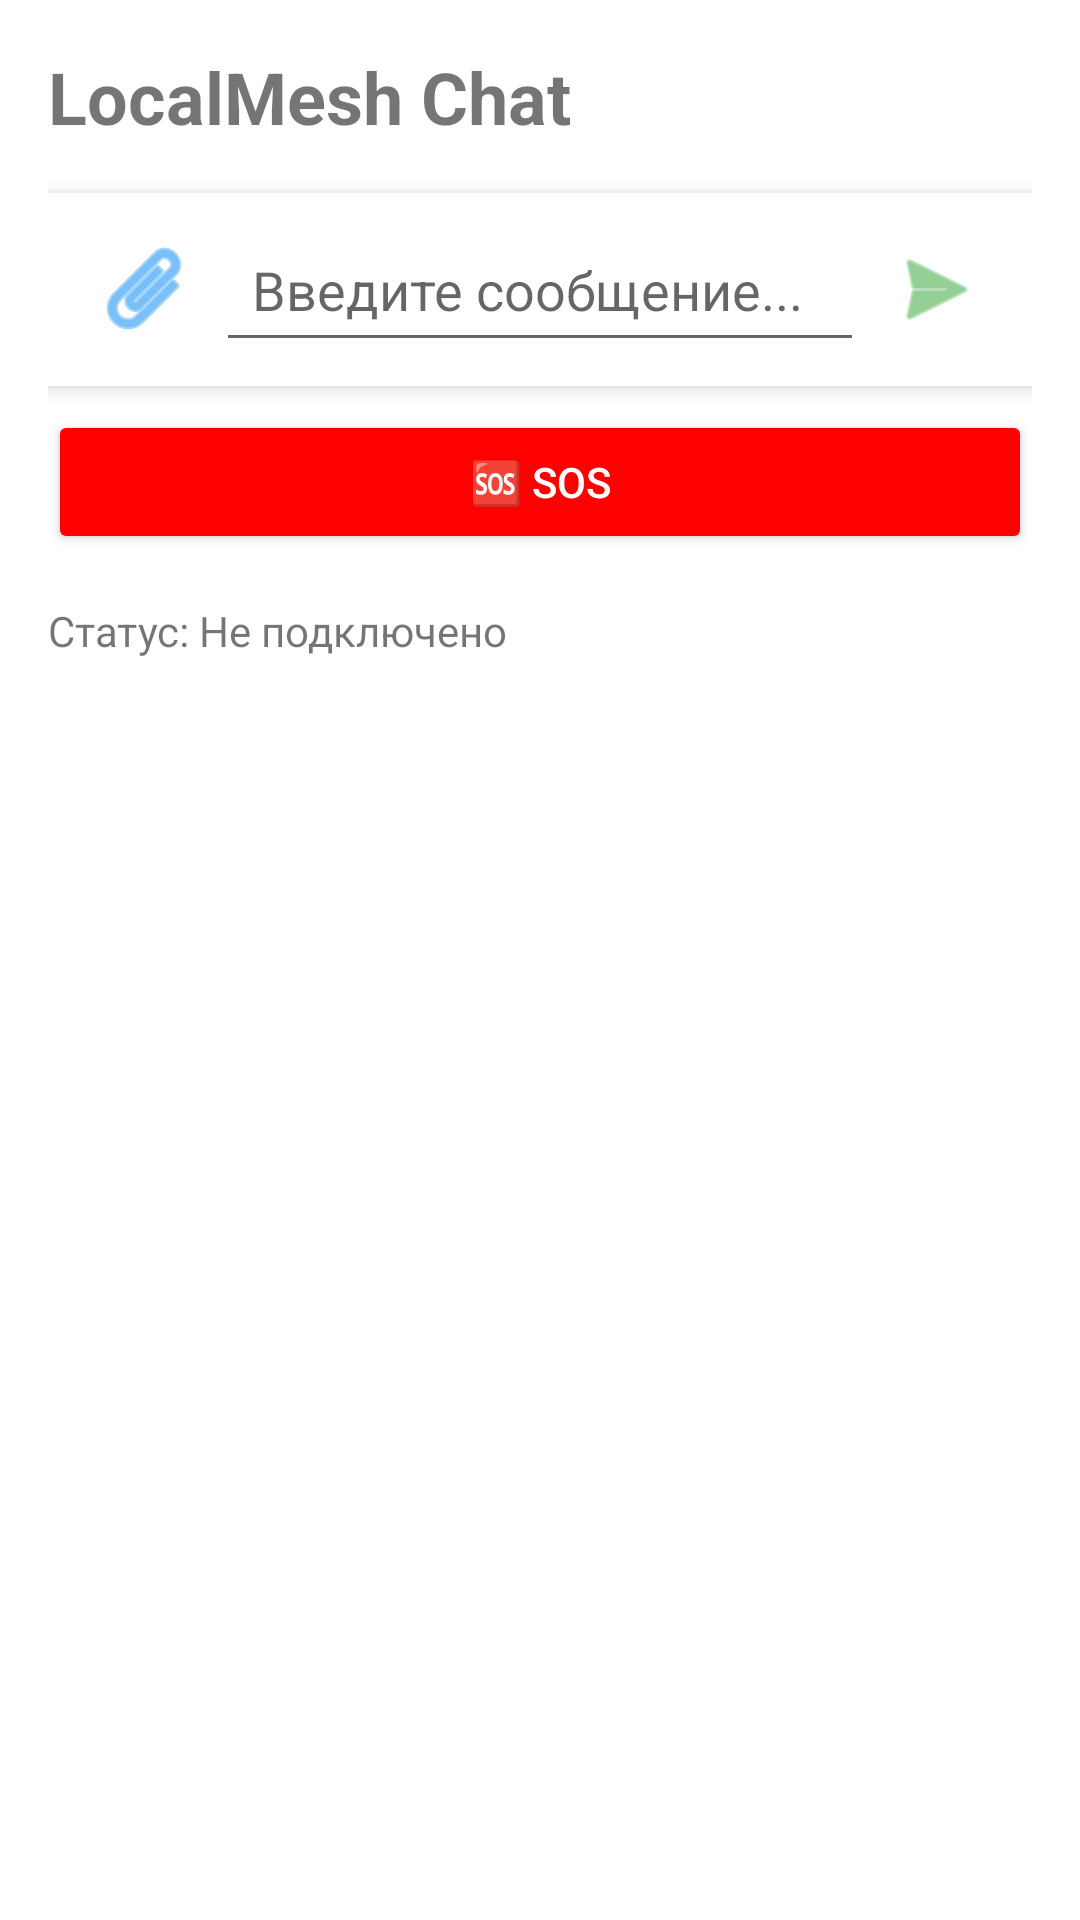

Named icons in this screenshot (1080*1920) and their centers, [x,y]:
Отправить: [936,289]
Прикрепить файл: [144,288]
